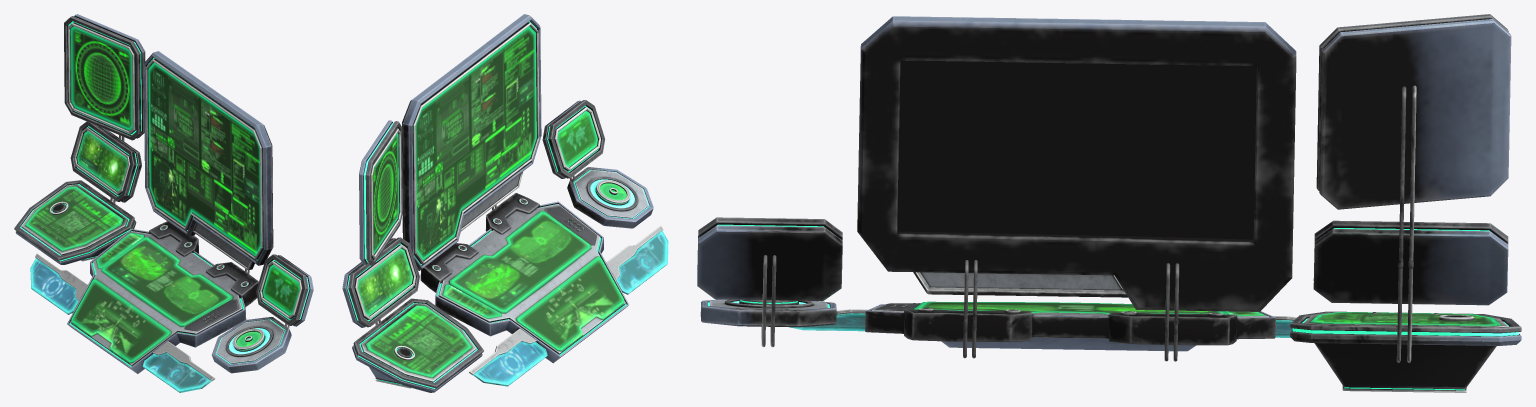
The model's file is pantallas.glb.
The picture shows the model from 3 angles, left to right: view 1: azimuth 30°, elevation 25°; view 2: azimuth 150°, elevation 25°; view 3: azimuth 270°, elevation 25°; orthographic projection. The views are drawn at different scales.
Parts seen in each view (by area): view 1: Object_3; view 2: Object_3; view 3: Object_3.
Part boxes in pixels (x1=…): Object_3: x1=14, y1=14, x2=313, y2=392; Object_3: x1=342, y1=14, x2=668, y2=392; Object_3: x1=697, y1=14, x2=1521, y2=392.
Bounding box in the file's own units: 1.34 × 2.4 × 4.21.
Materials: 1 (1 with a texture image).
